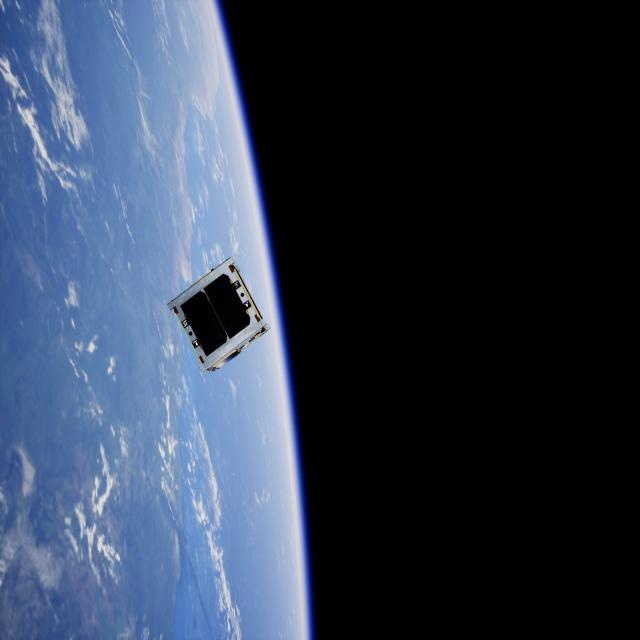medium_debris: (166, 255, 269, 378)
